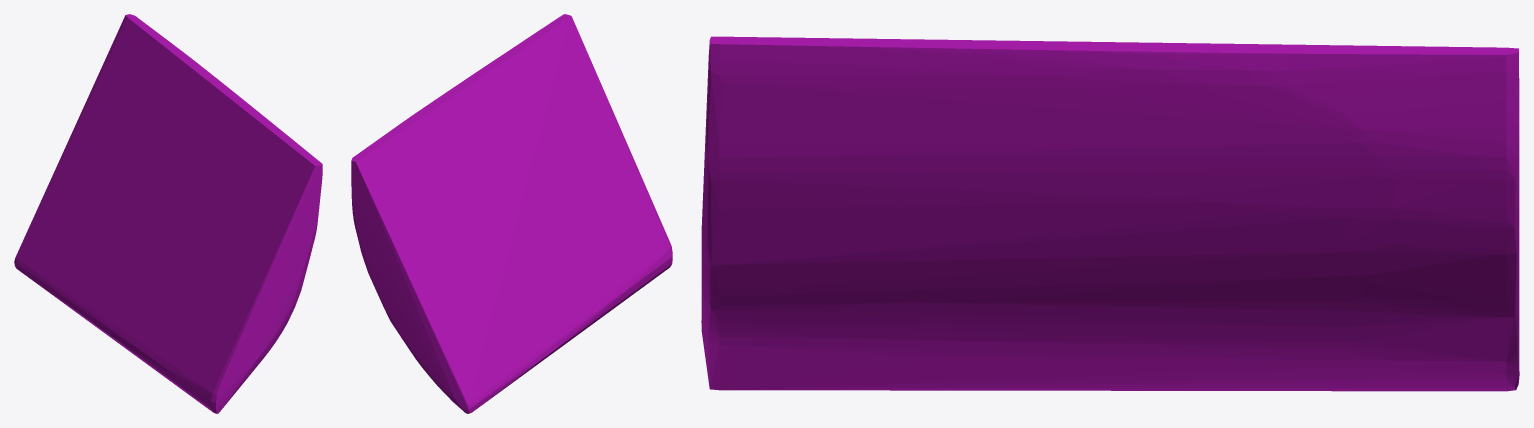
Rendered from right-shoulder-yaw-0_part_22.obj.
3 views of the same model, side by side, from view 1: azimuth 30°, elevation 25°; view 2: azimuth 150°, elevation 25°; view 3: azimuth 270°, elevation 25° (orthographic). The views are drawn at different scales.
Bounding box in the file's own units: 0.0193 × 0.034 × 0.0562.
